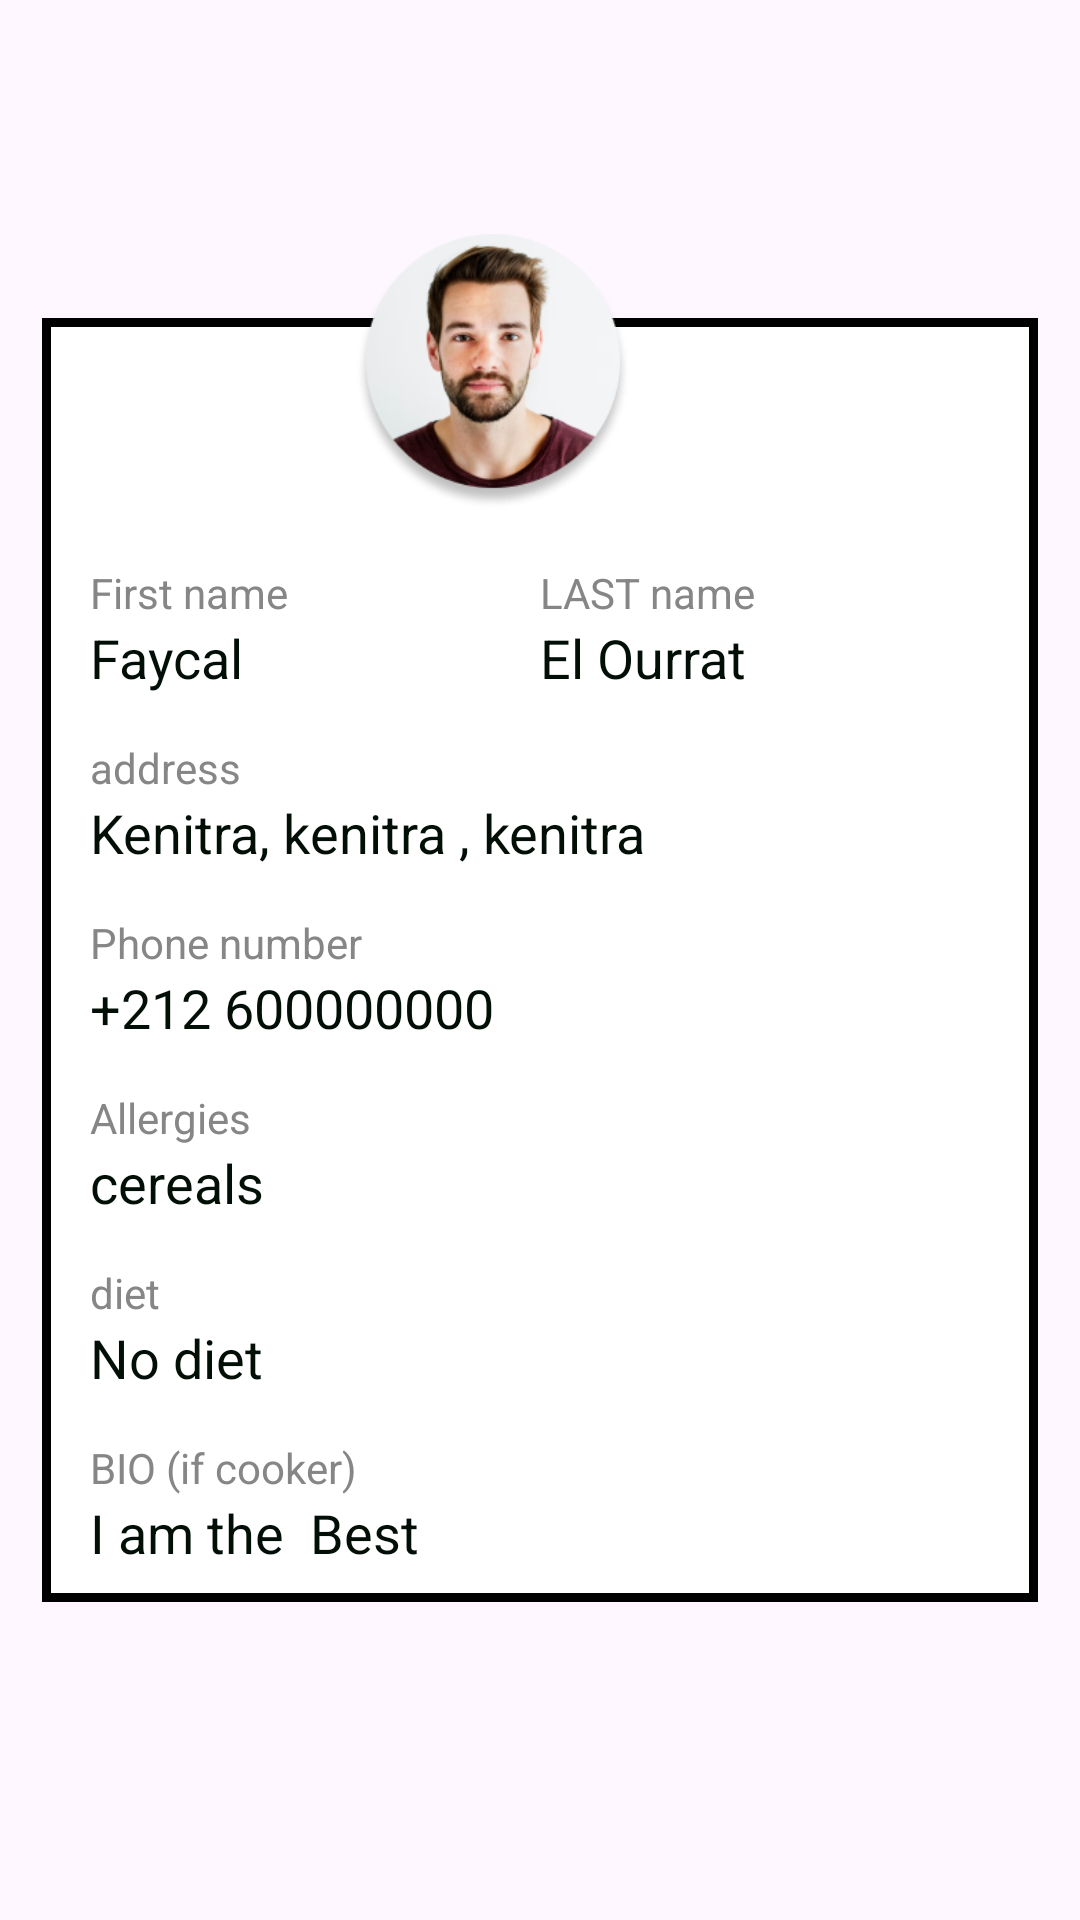

Icon click points for this 1080 x 1920 phone screenshot, format [x,y]:
portrait of: [493,369]
